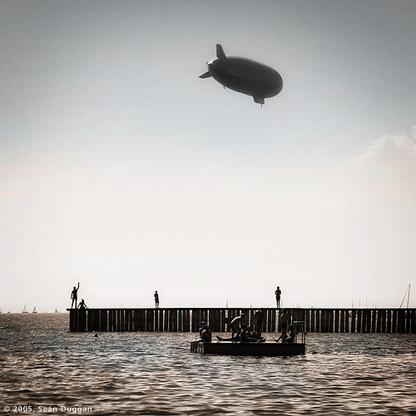Airship: (199, 44, 294, 114)
